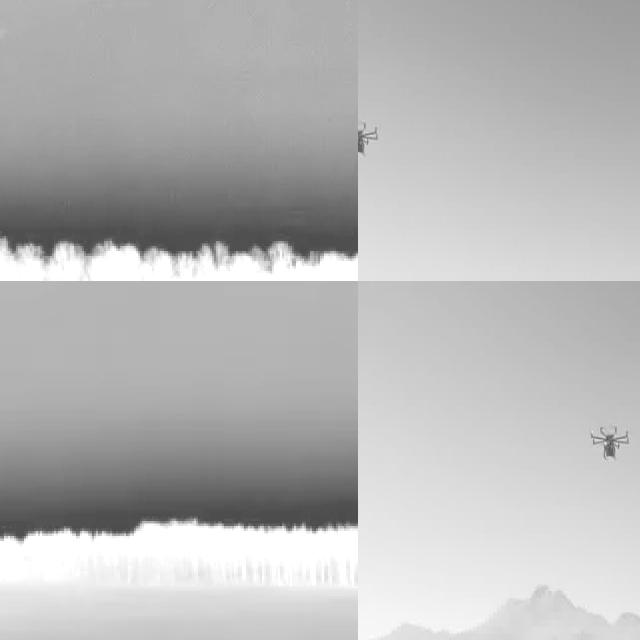1: (0, 21, 9, 51)
drone: (585, 415, 632, 469), (358, 111, 380, 165)
